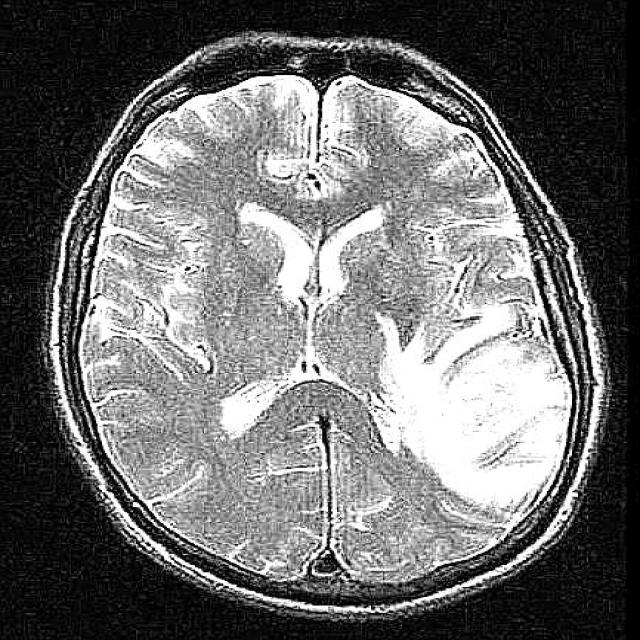Tumor-Cell: (375, 308, 569, 501)
